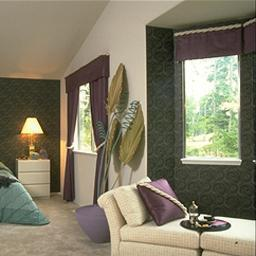Cama: (3, 168, 43, 225)
Ventana: (182, 32, 243, 163), (69, 75, 107, 153)
